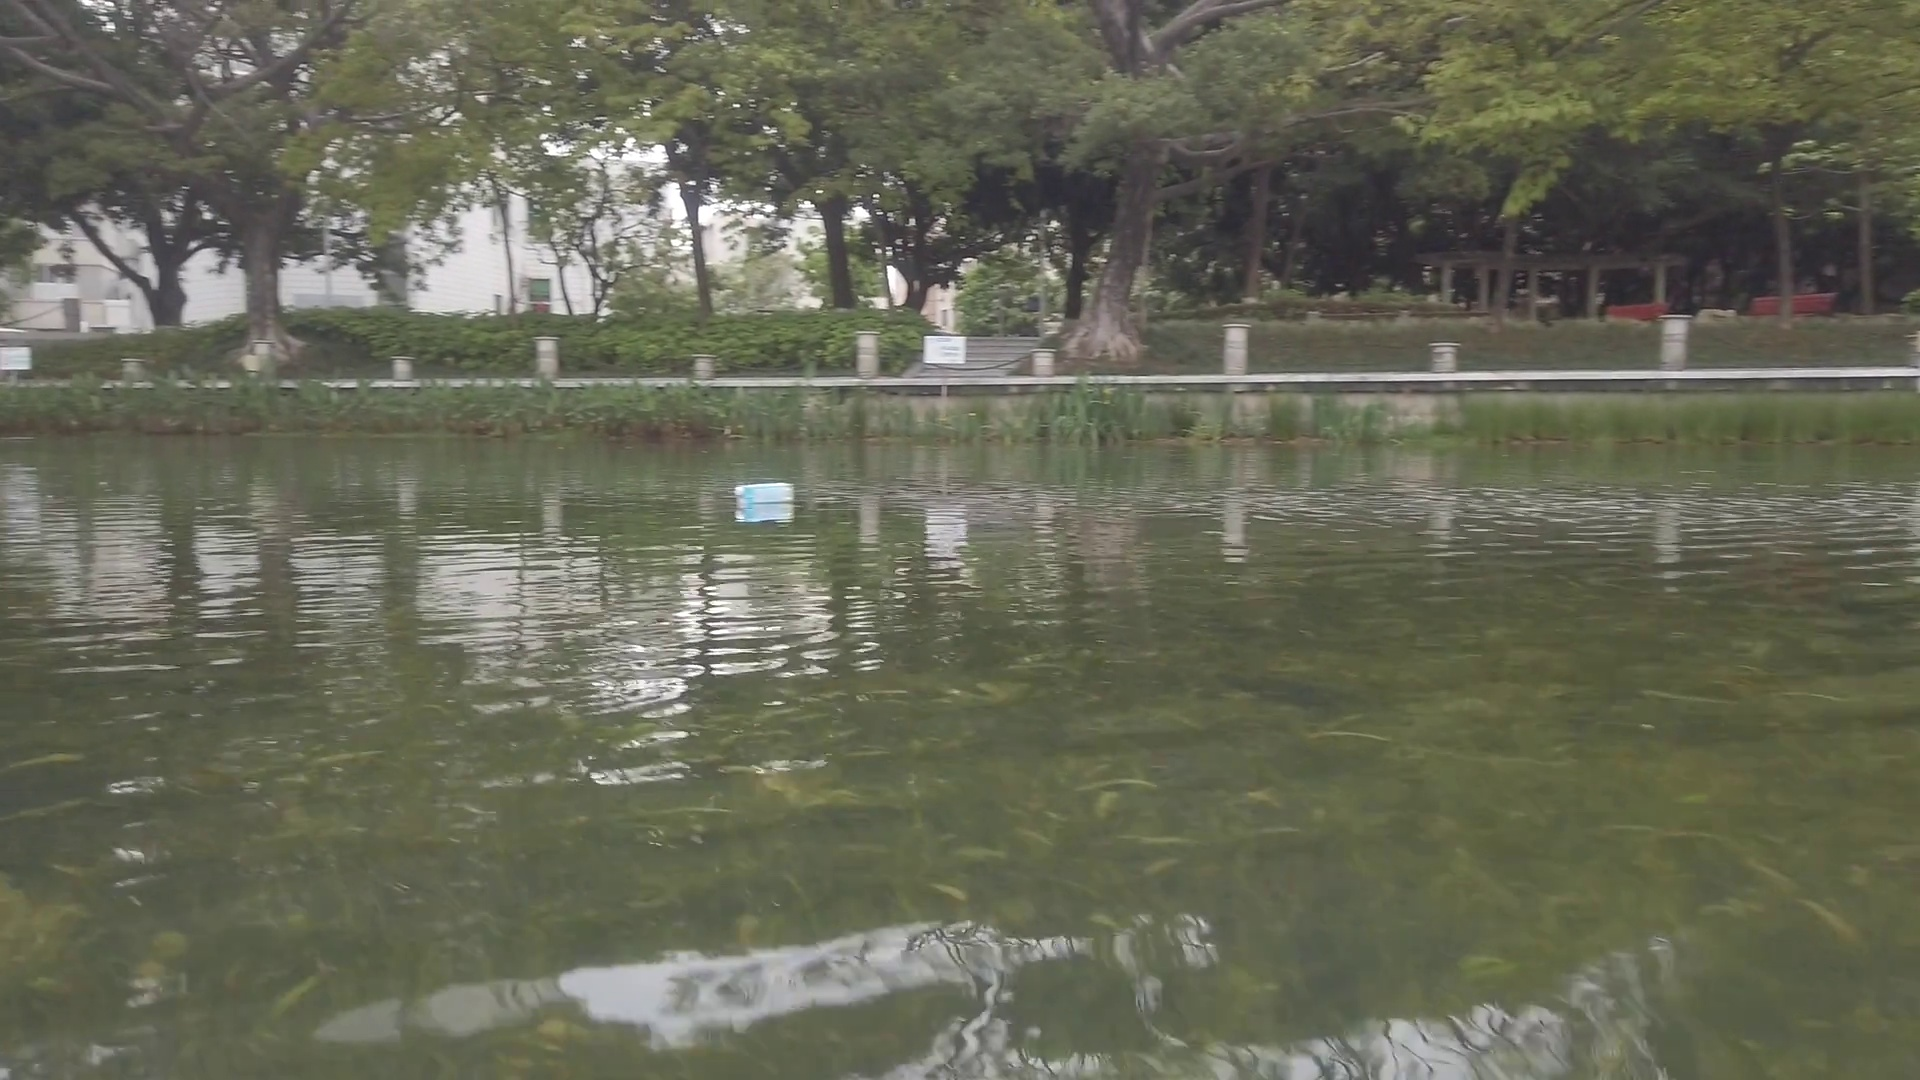carton: (736, 484, 796, 501)
